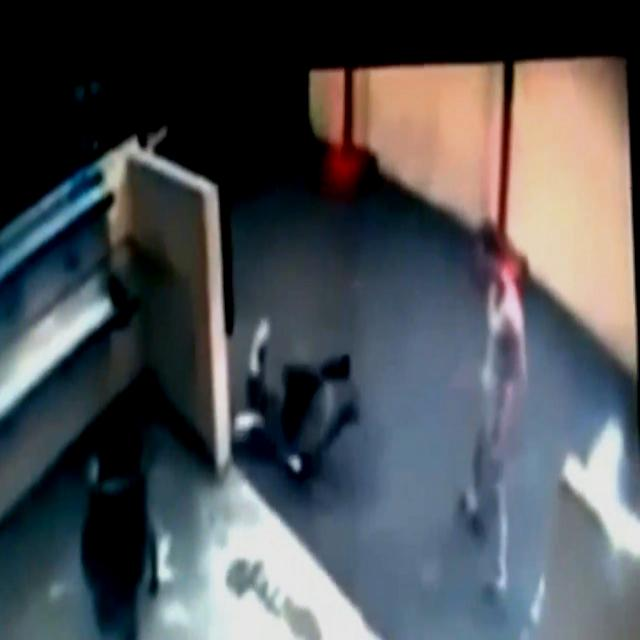fight: (244, 196, 547, 538)
